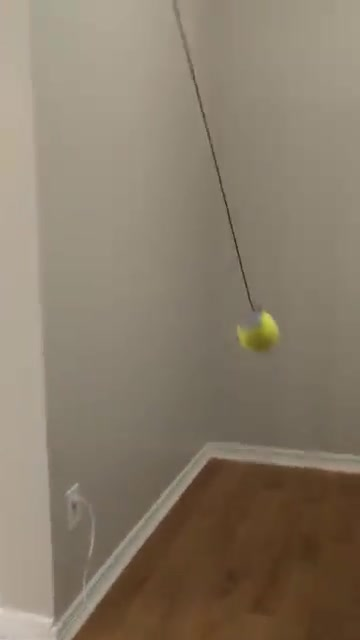tennis_ball: (234, 307, 280, 354)
